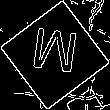M_S: (28, 27, 82, 83)
